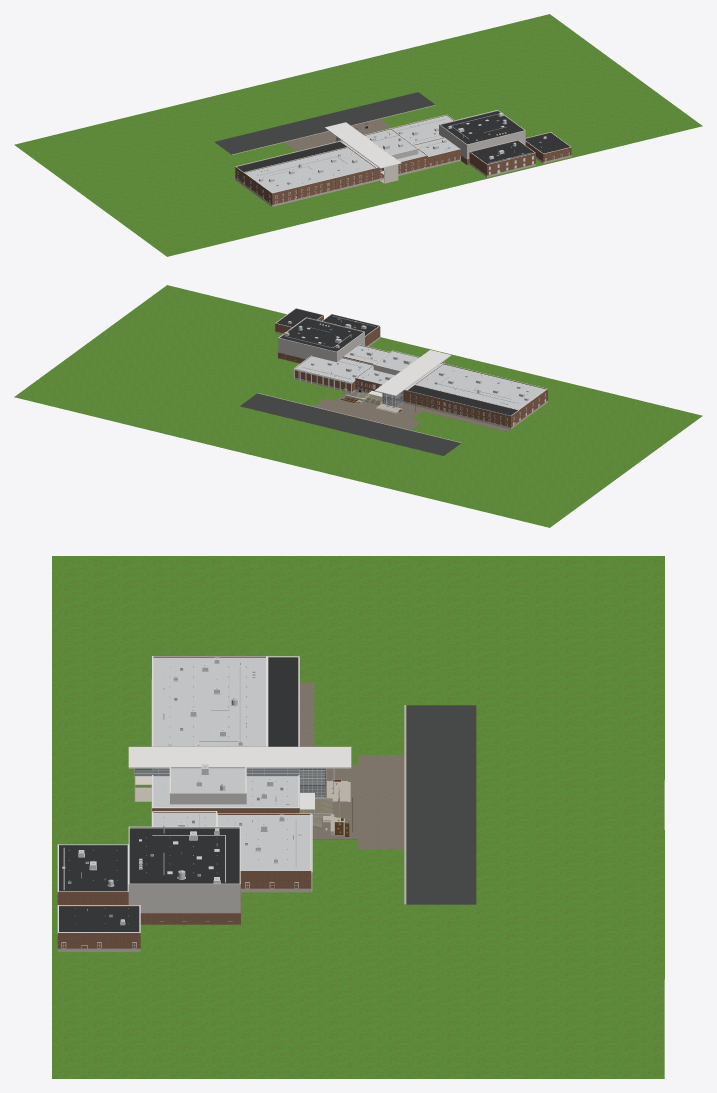
The model's file is jasper_high_school.meshopt.glb.
3 renders of one model, top to bottom at view 1: azimuth 30°, elevation 25°; view 2: azimuth 150°, elevation 25°; view 3: azimuth 270°, elevation 25°, orthographic. The views are drawn at different scales.
Parts seen in each view (by area): view 1: apron_grass, apron_sw, apron_se, street, wing_roof, wing_wall, gym_roof, canopy_main, sidewalk_front, colonnade_roof, wing_dark_roof, gym_upper (+6 smaller); view 2: apron_grass, apron_sw, apron_se, street, wing_roof, gym_roof, wing_dark_wall, canopy_main, sidewalk_front, colonnade_roof, gym_upper, wing_dark_roof (+7 smaller); view 3: apron_grass, apron_sw, apron_se, street, wing_roof, gym_roof, canopy_main, sidewalk_front, colonnade_roof, gym_upper, rear_roof, mid_roof (+11 smaller).
Boxes of the visible parts, bbox=[...] form: apron_grass: bbox=[106, 14, 702, 256]; apron_sw: bbox=[14, 89, 305, 211]; apron_se: bbox=[295, 39, 538, 130]; street: bbox=[215, 92, 435, 154]; wing_roof: bbox=[245, 147, 375, 192]; wing_wall: bbox=[243, 168, 376, 204]; gym_roof: bbox=[441, 111, 523, 144]; canopy_main: bbox=[325, 122, 401, 168]; sidewalk_front: bbox=[283, 119, 391, 150]; colonnade_roof: bbox=[392, 115, 452, 144]; wing_dark_roof: bbox=[237, 142, 346, 171]; gym_upper: bbox=[439, 125, 525, 158]; apron_grass: bbox=[14, 285, 702, 471]; apron_sw: bbox=[320, 411, 640, 527]; apron_se: bbox=[116, 355, 346, 459]; street: bbox=[240, 393, 460, 455]; wing_roof: bbox=[416, 364, 545, 409]; gym_roof: bbox=[280, 318, 362, 351]; wing_dark_wall: bbox=[407, 391, 518, 427]; canopy_main: bbox=[375, 350, 450, 395]; sidewalk_front: bbox=[314, 398, 421, 430]; colonnade_roof: bbox=[295, 356, 371, 382]; gym_upper: bbox=[278, 333, 364, 362]; wing_dark_roof: bbox=[408, 385, 517, 415]; apron_grass: bbox=[52, 556, 664, 1078]; apron_sw: bbox=[299, 556, 664, 779]; apron_se: bbox=[299, 830, 664, 979]; street: bbox=[406, 705, 476, 904]; wing_roof: bbox=[153, 657, 265, 746]; gym_roof: bbox=[129, 828, 239, 883]; canopy_main: bbox=[128, 747, 350, 767]; sidewalk_front: bbox=[358, 755, 404, 849]; colonnade_roof: bbox=[218, 815, 310, 869]; gym_upper: bbox=[128, 885, 240, 912]; rear_roof: bbox=[59, 846, 127, 891]; mid_roof: bbox=[153, 769, 298, 807].
Size of the model in its own units: 420 by 17.49 by 208.
Materials: 22 (12 with a texture image).
